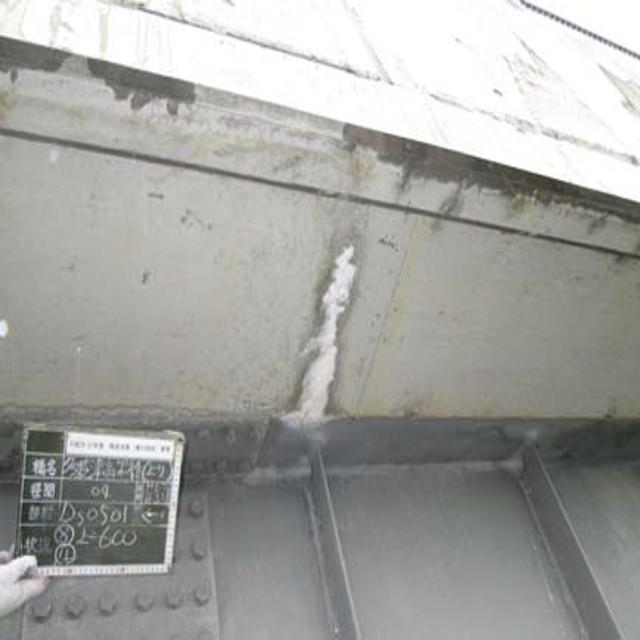freelime: (263, 235, 374, 454)
